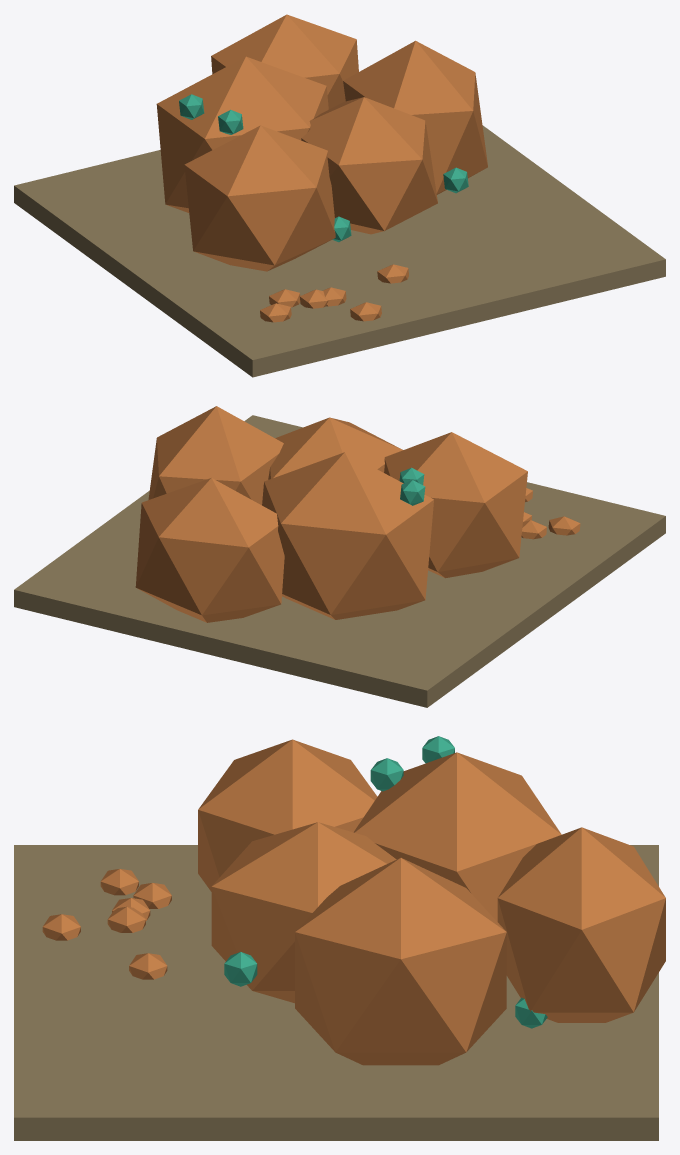
The model's file is Deposit_Copper_Mining.fbx.
The picture shows the model from 3 angles, top to bottom: view 1: azimuth 30°, elevation 25°; view 2: azimuth 150°, elevation 25°; view 3: azimuth 270°, elevation 25°; orthographic projection. The views are drawn at different scales.
Parts seen in each view (by area): view 1: Deposit_Copper_Mining_Body; view 2: Deposit_Copper_Mining_Body; view 3: Deposit_Copper_Mining_Body.
Part boxes in pixels (x1,y1,x2,y2): Deposit_Copper_Mining_Body: (14,14,665,377); Deposit_Copper_Mining_Body: (14,406,665,707); Deposit_Copper_Mining_Body: (14,736,665,1140).
Bounding box in the file's own units: 1 × 0.41 × 1.01.
